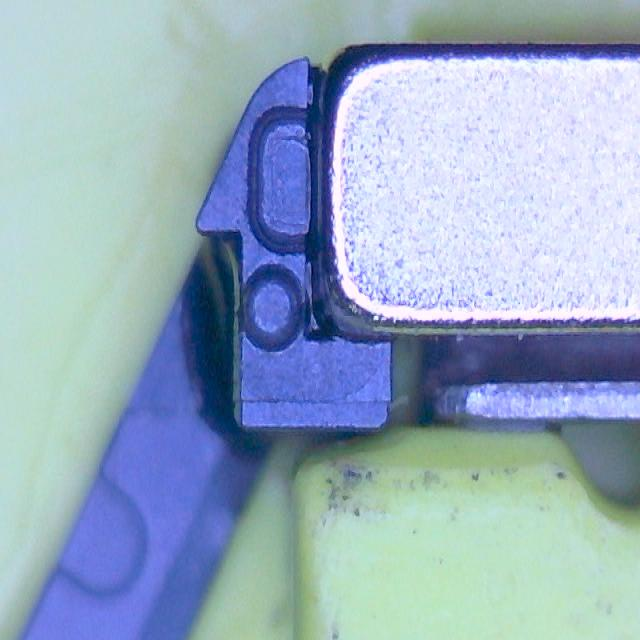lacking: (244, 102, 316, 256)
